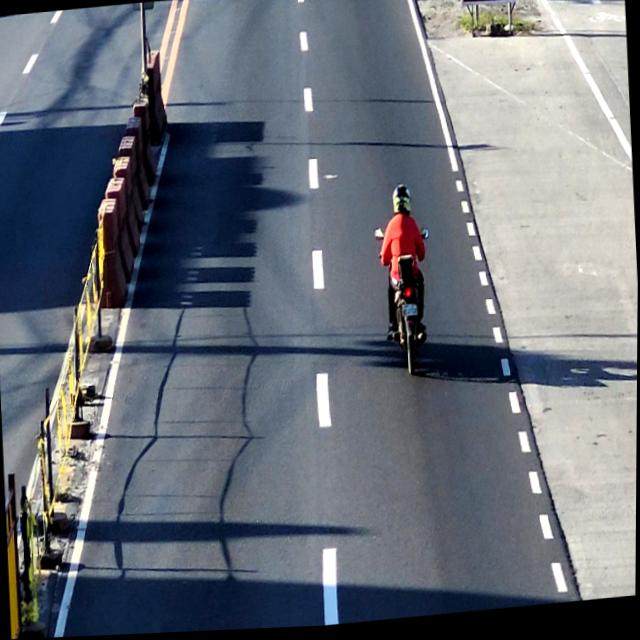License-Plate: (401, 307, 419, 324)
Motorcycle: (378, 183, 433, 393)
